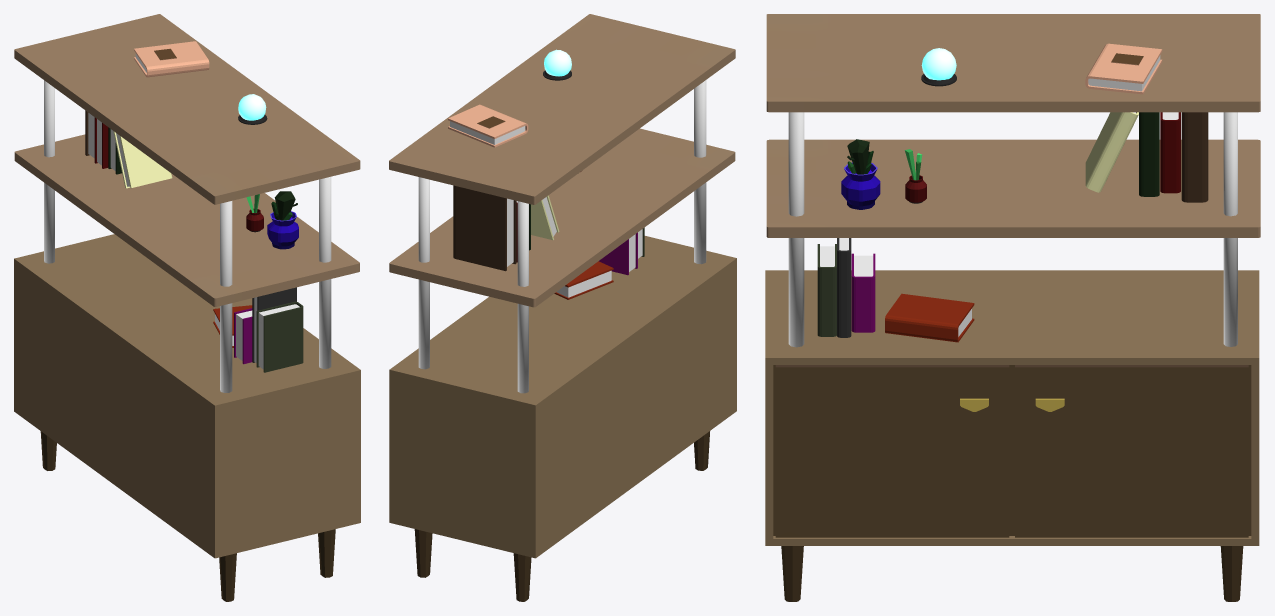
The model's file is mini-cupboard.glb.
3 renders of one model, left to right at view 1: azimuth 30°, elevation 25°; view 2: azimuth 150°, elevation 25°; view 3: azimuth 270°, elevation 25°, orthographic. The views are drawn at different scales.
Parts seen in each view (by area): view 1: Cupboard_1; view 2: Cupboard_1; view 3: Cupboard_1.
Boxes of the visible parts, <box> form: Cupboard_1: <box>14,14,360,601</box>; Cupboard_1: <box>389,14,736,601</box>; Cupboard_1: <box>765,14,1260,601</box>.
Size of the model in its own units: 2.02 by 5.76 by 4.78.
Materials: 4 (4 with a texture image).
